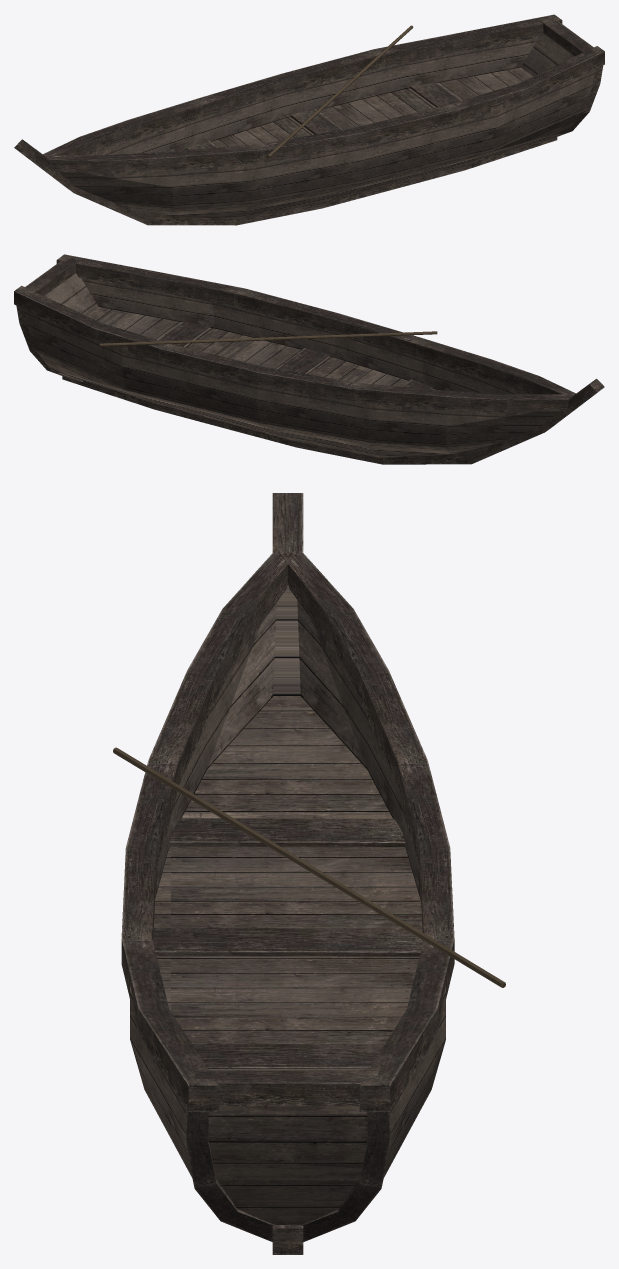
File: boat.obj
3 renders of one model, top to bottom at view 1: azimuth 30°, elevation 25°; view 2: azimuth 150°, elevation 25°; view 3: azimuth 270°, elevation 25°, orthographic. The views are drawn at different scales.
Size of the model in its own units: 5.43 by 1.25 by 1.65.
Materials: 2 (2 with a texture image).
